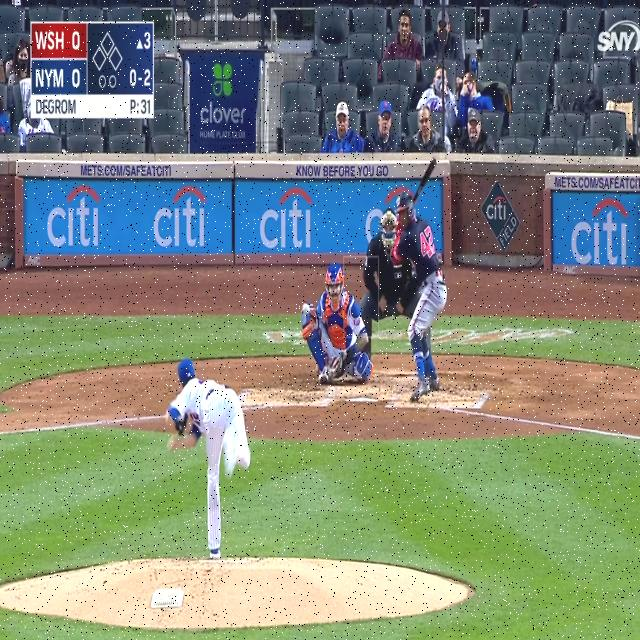baseball: (302, 303, 310, 313)
